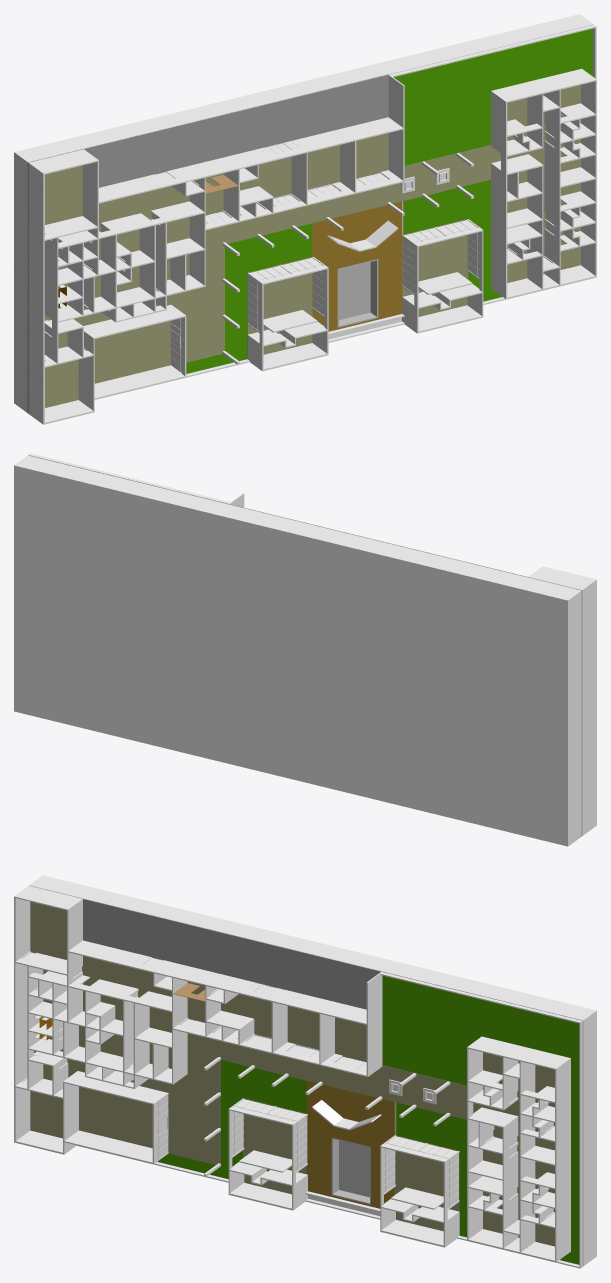
File: Arquitetura Lar para Idosos.obj
The picture shows the model from 3 angles, top to bottom: view 1: azimuth 30°, elevation 25°; view 2: azimuth 150°, elevation 25°; view 3: azimuth 330°, elevation 25°; orthographic projection. The views are drawn at different scales.
Visible parts, largest first — view 1: Structure001, Extrude014, Structure004, Site, Structure005, Extrude015, Wall011, Structure, Wall192, Wall073, Component027, Structure002 (+41 smaller); view 2: Site, Wall001, Wall, Wall002, Wall006, Wall122, Structure001; view 3: Structure001, Extrude014, Structure004, Site, Structure005, Wall011, Extrude015, Structure, Wall058, Component027, Wall073, Structure003 (+42 smaller).
Part boxes in pixels (bbox=[...]): Structure001: bbox=[27, 133, 490, 413]; Extrude014: bbox=[394, 28, 592, 301]; Structure004: bbox=[83, 74, 389, 187]; Site: bbox=[14, 14, 593, 413]; Structure005: bbox=[312, 201, 402, 331]; Extrude015: bbox=[186, 223, 312, 373]; Wall011: bbox=[99, 117, 404, 203]; Structure: bbox=[491, 69, 580, 282]; Wall192: bbox=[491, 90, 507, 297]; Wall073: bbox=[544, 90, 560, 284]; Component027: bbox=[337, 259, 378, 327]; Structure002: bbox=[247, 257, 312, 358]; Site: bbox=[14, 455, 581, 846]; Wall001: bbox=[582, 645, 596, 778]; Wall: bbox=[581, 579, 596, 654]; Wall002: bbox=[582, 769, 596, 835]; Wall006: bbox=[529, 566, 594, 589]; Wall122: bbox=[29, 453, 230, 503]; Structure001: bbox=[528, 577, 582, 836]; Structure001: bbox=[29, 885, 481, 1164]; Extrude014: bbox=[382, 975, 579, 1264]; Structure004: bbox=[83, 898, 382, 1012]; Site: bbox=[29, 875, 596, 1266]; Structure005: bbox=[306, 1081, 395, 1208]; Wall011: bbox=[68, 940, 382, 1025]; Extrude015: bbox=[157, 1060, 306, 1178]; Structure: bbox=[481, 1036, 566, 1246]; Wall058: bbox=[555, 1059, 570, 1262]; Component027: bbox=[331, 1137, 370, 1204]; Wall073: bbox=[519, 1061, 535, 1252]; Structure003: bbox=[395, 1135, 459, 1231].
Size of the model in its own units: 70000 by 29700 by 6320.
